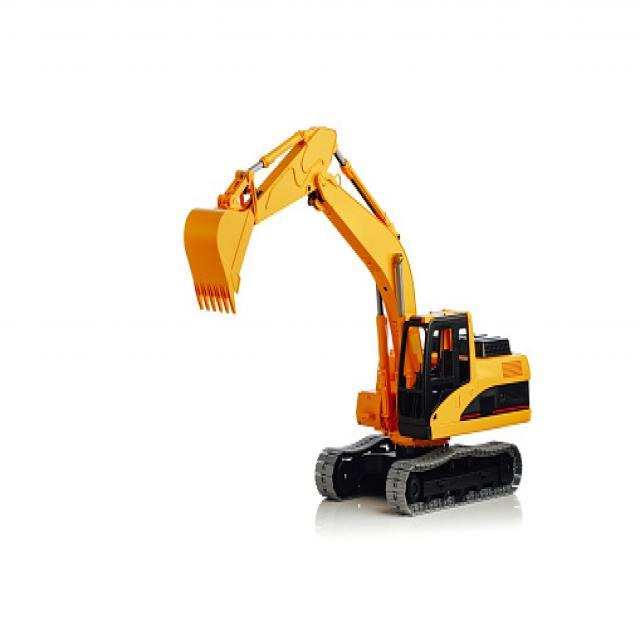C_E: (182, 126, 536, 514)
